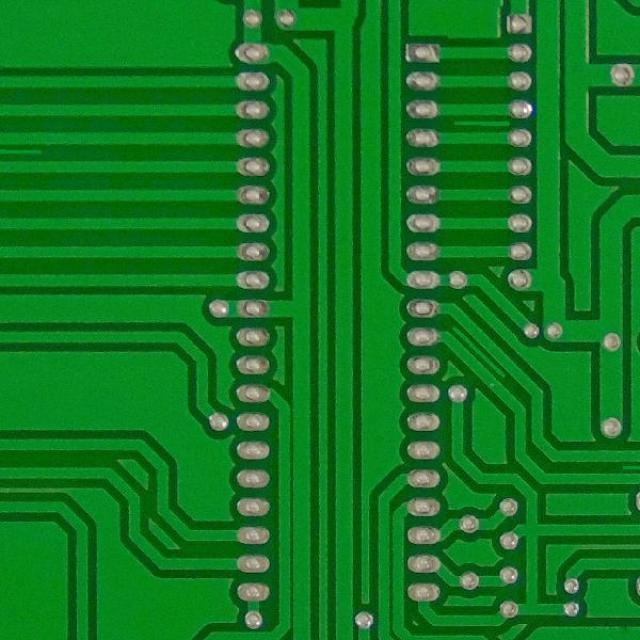Spurious_Cooper: (441, 315, 516, 385), (449, 116, 513, 131), (1, 145, 47, 158), (619, 461, 640, 473)
